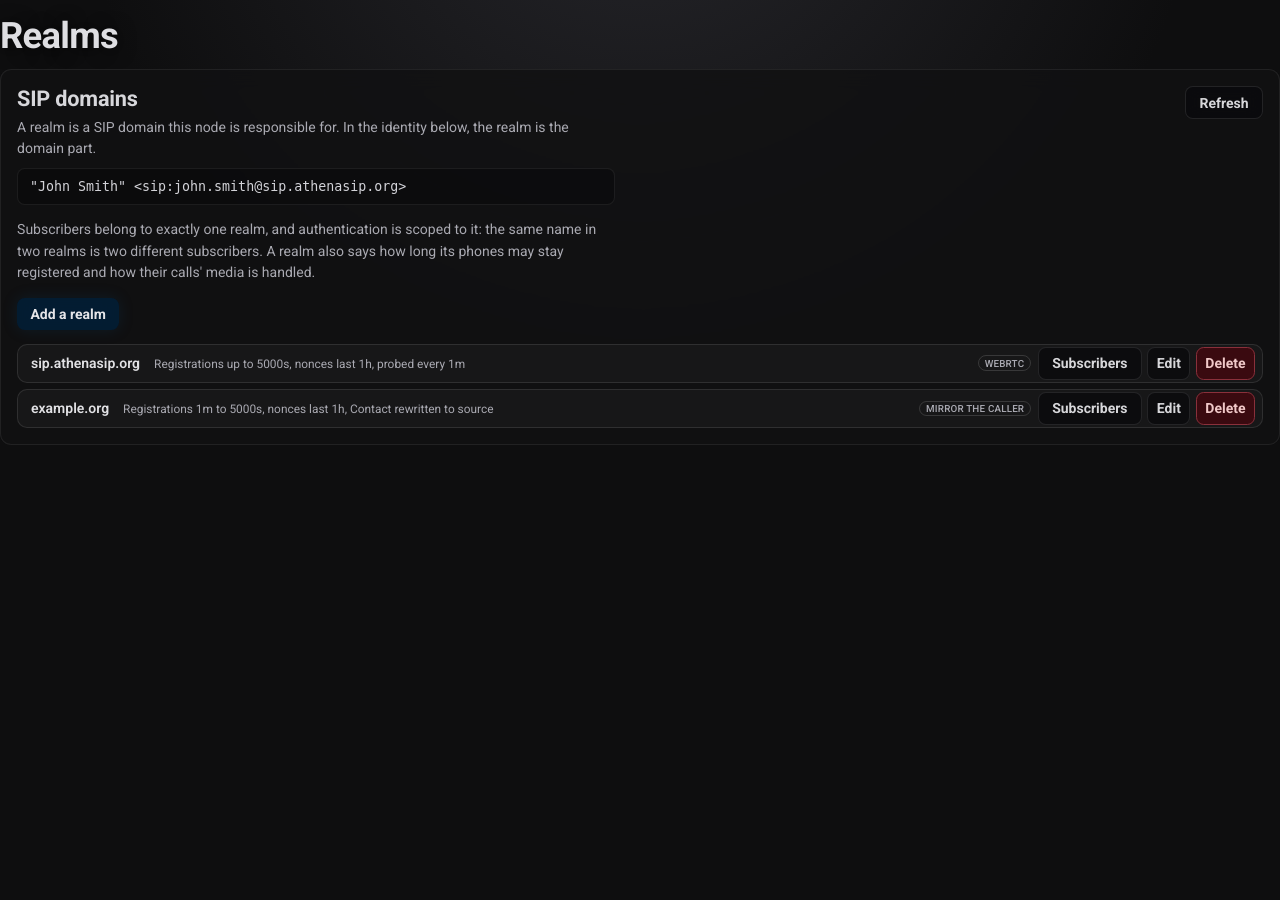
RealmsScreen › will not submit a realm with no name
Step 1. Click the button "Add a realm" → click(68, 314), box [17,298,119,330]
(page scrolled)
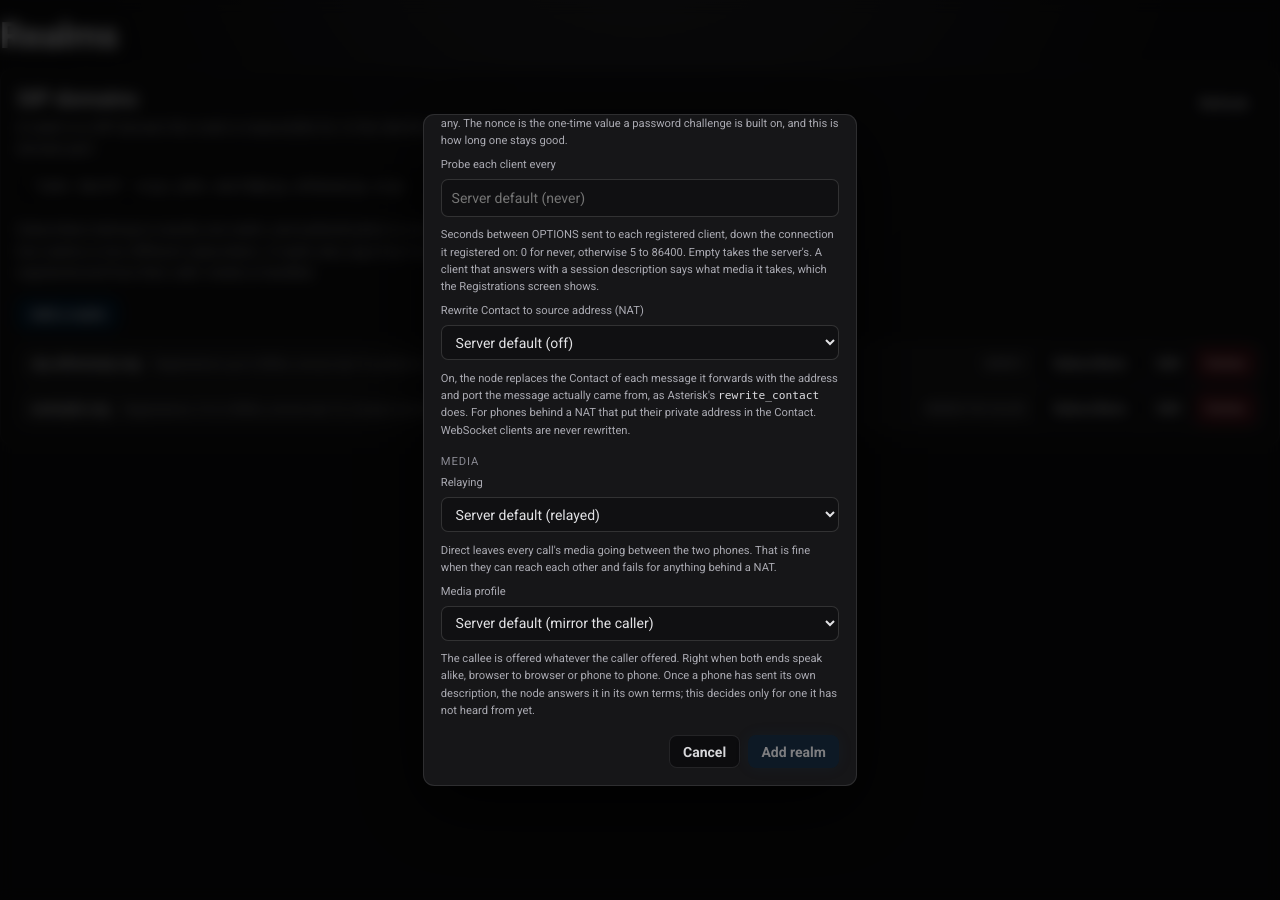
Expected: the button "Add realm" is disabled, [748,735,839,768]
